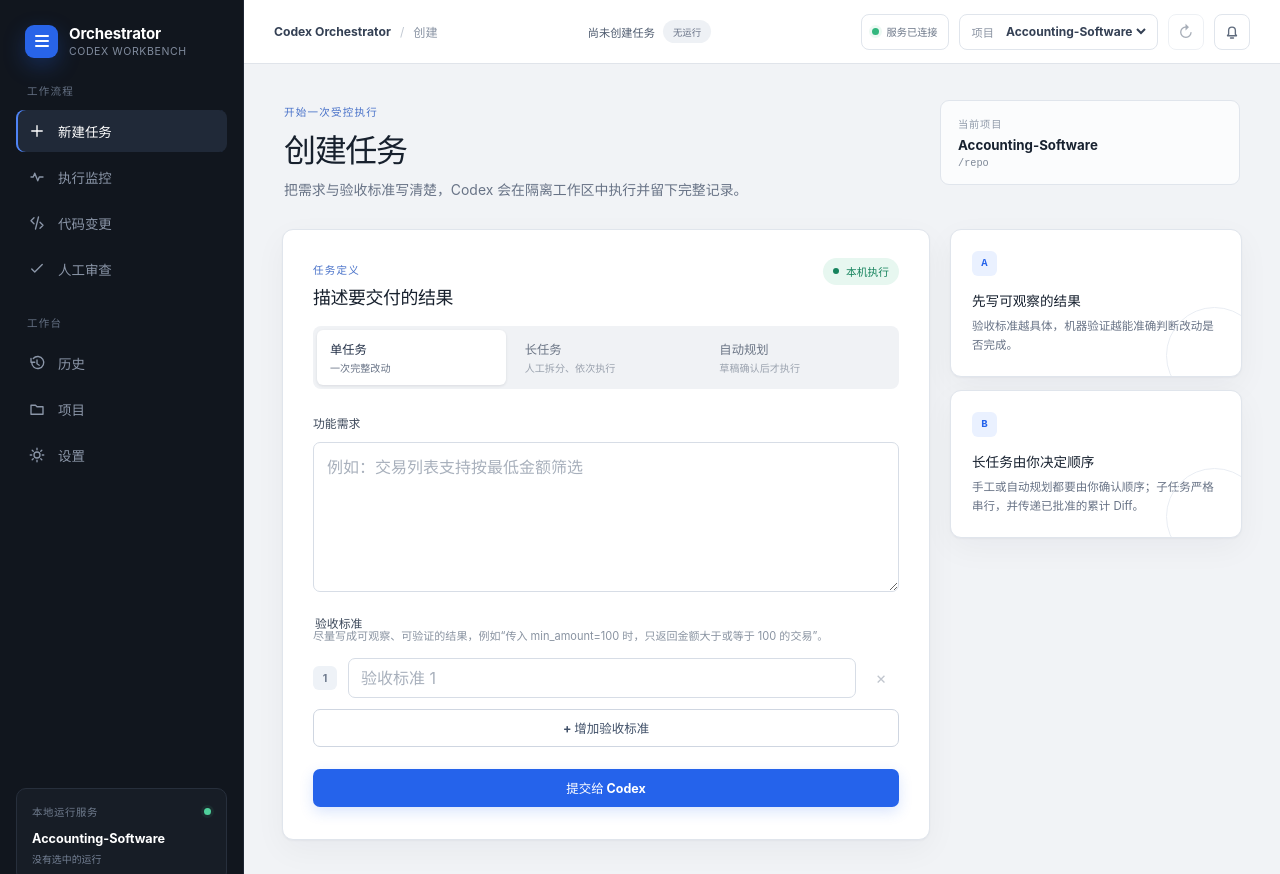
Test: App workbench › submits an ordered queue and opens its current review subtask
Click the tab with test id "queue-mode" at (606, 358), box [512, 330, 700, 385]
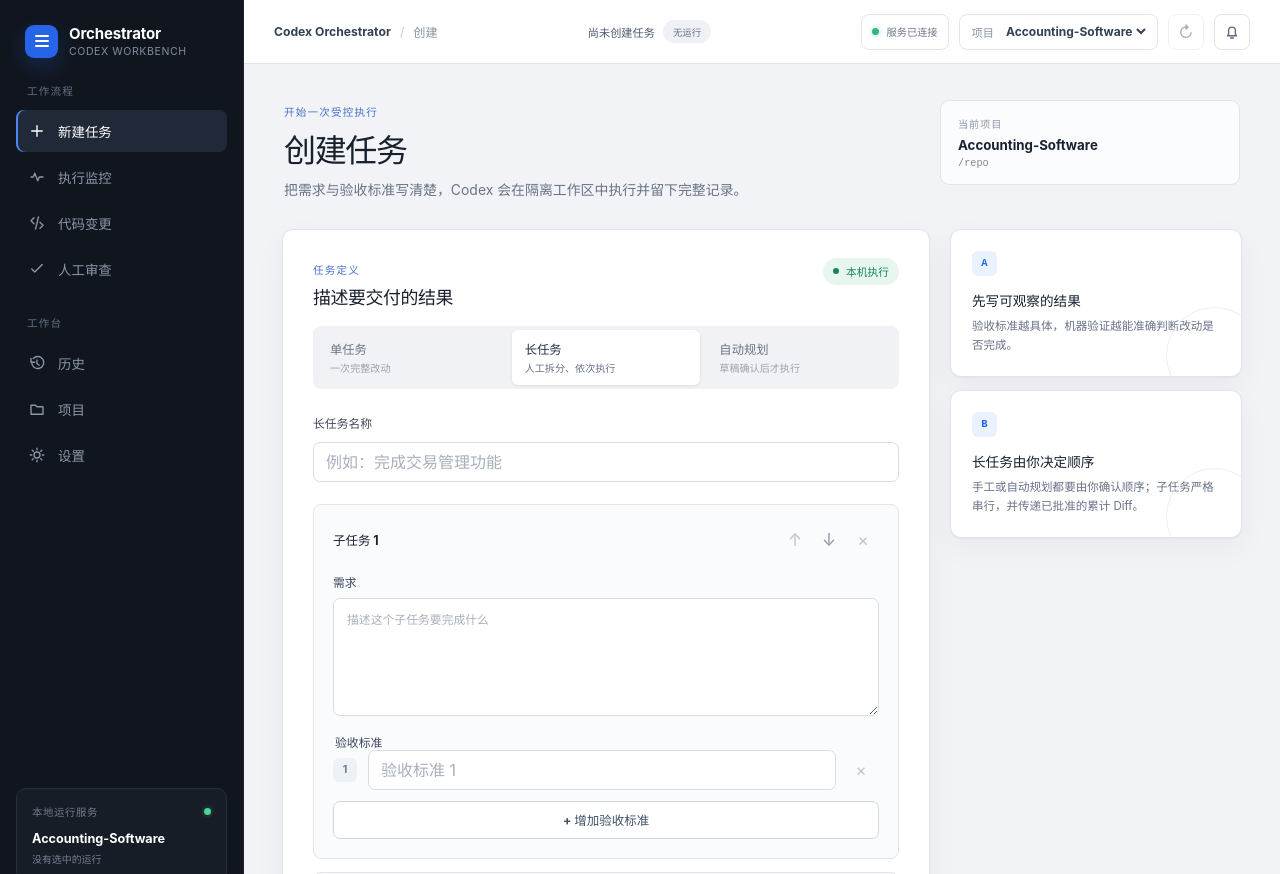
Type "交易管理" into the field with test id "queue-name" at (606, 462), box [313, 442, 899, 482]
Type "新增交易" into the text box with test id "subtask-requirement-0" at (606, 657), box [333, 598, 879, 716]
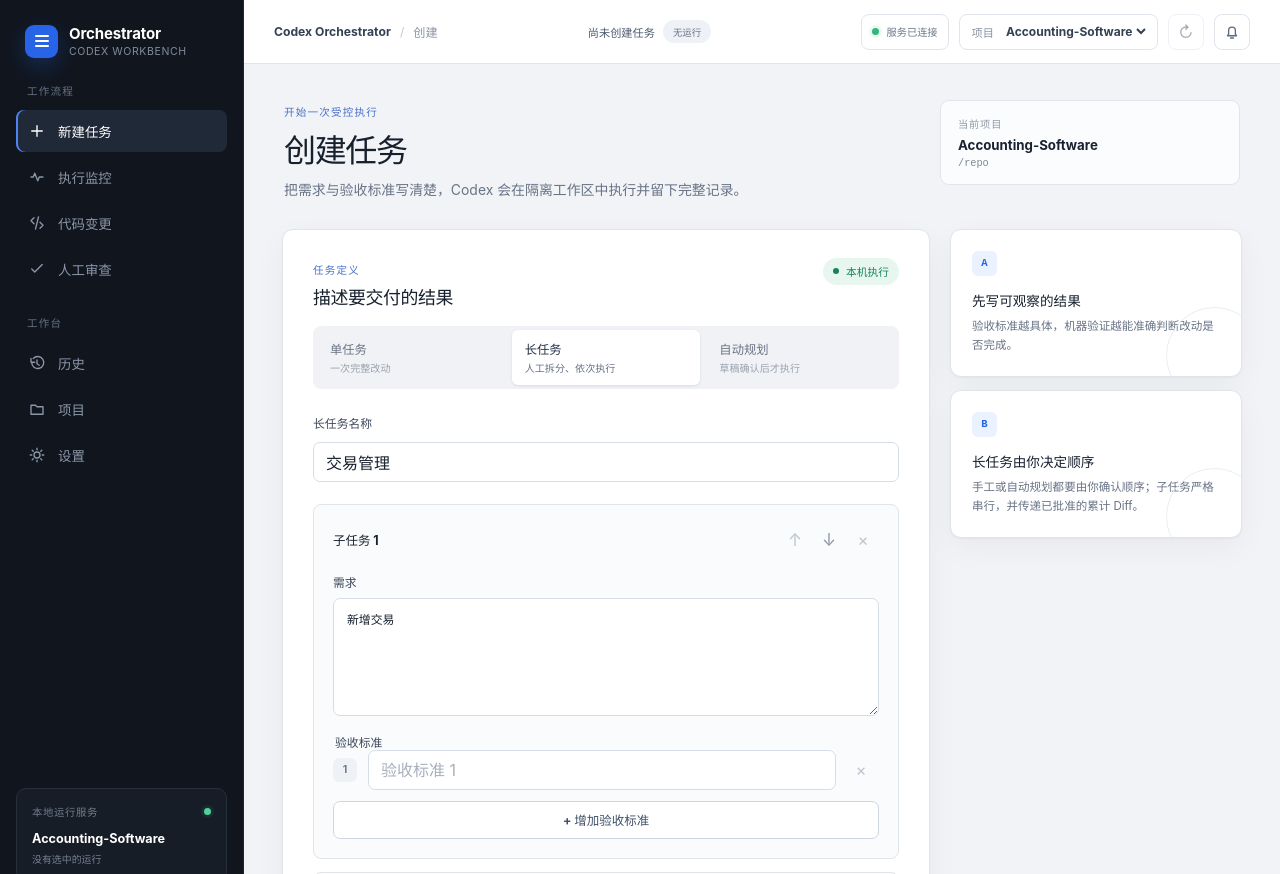
Type "可以新增" into the field with test id "subtask-0-criterion-0" at (602, 770), box [368, 750, 836, 790]
(page scrolled)
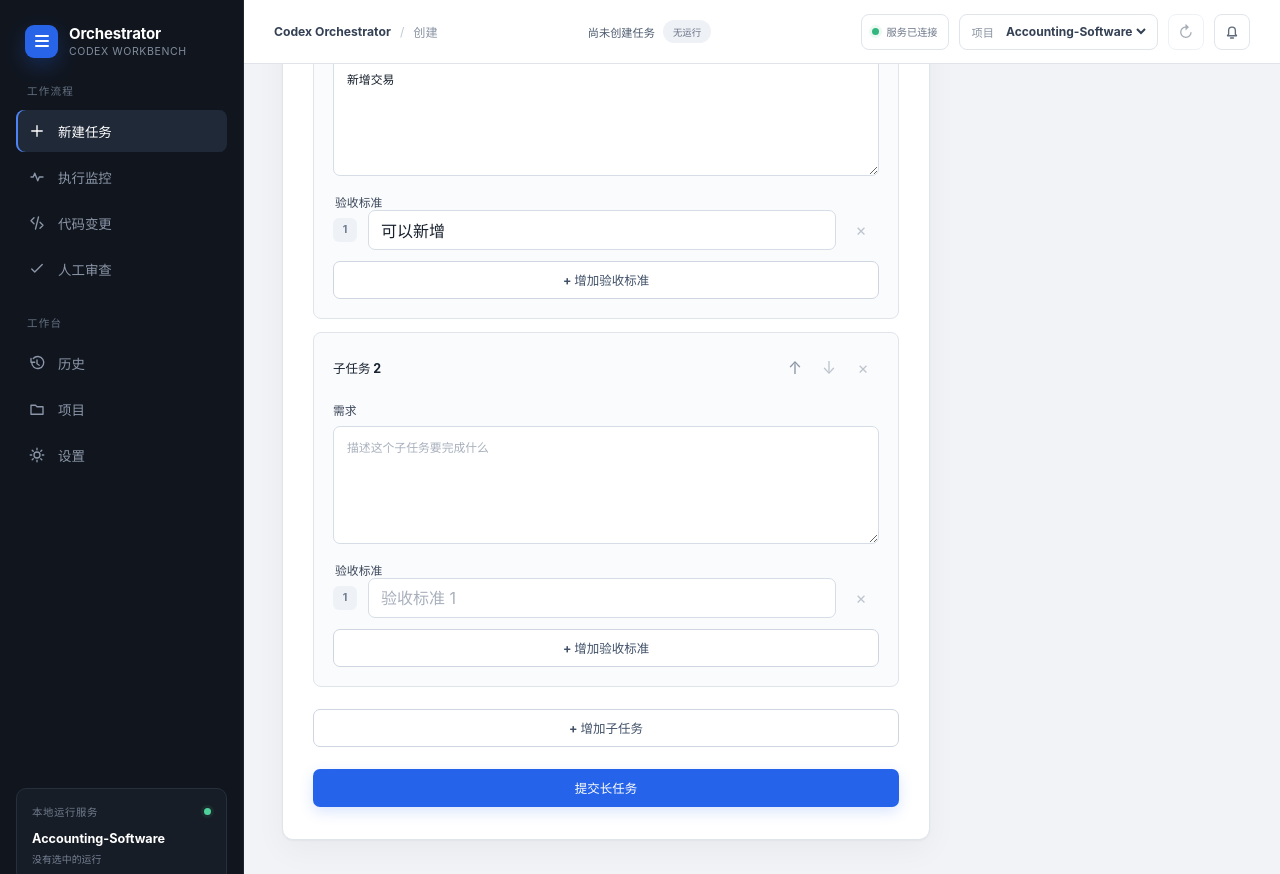
Type "交易列表" into the text box with test id "subtask-requirement-1" at (606, 485), box [333, 426, 879, 544]
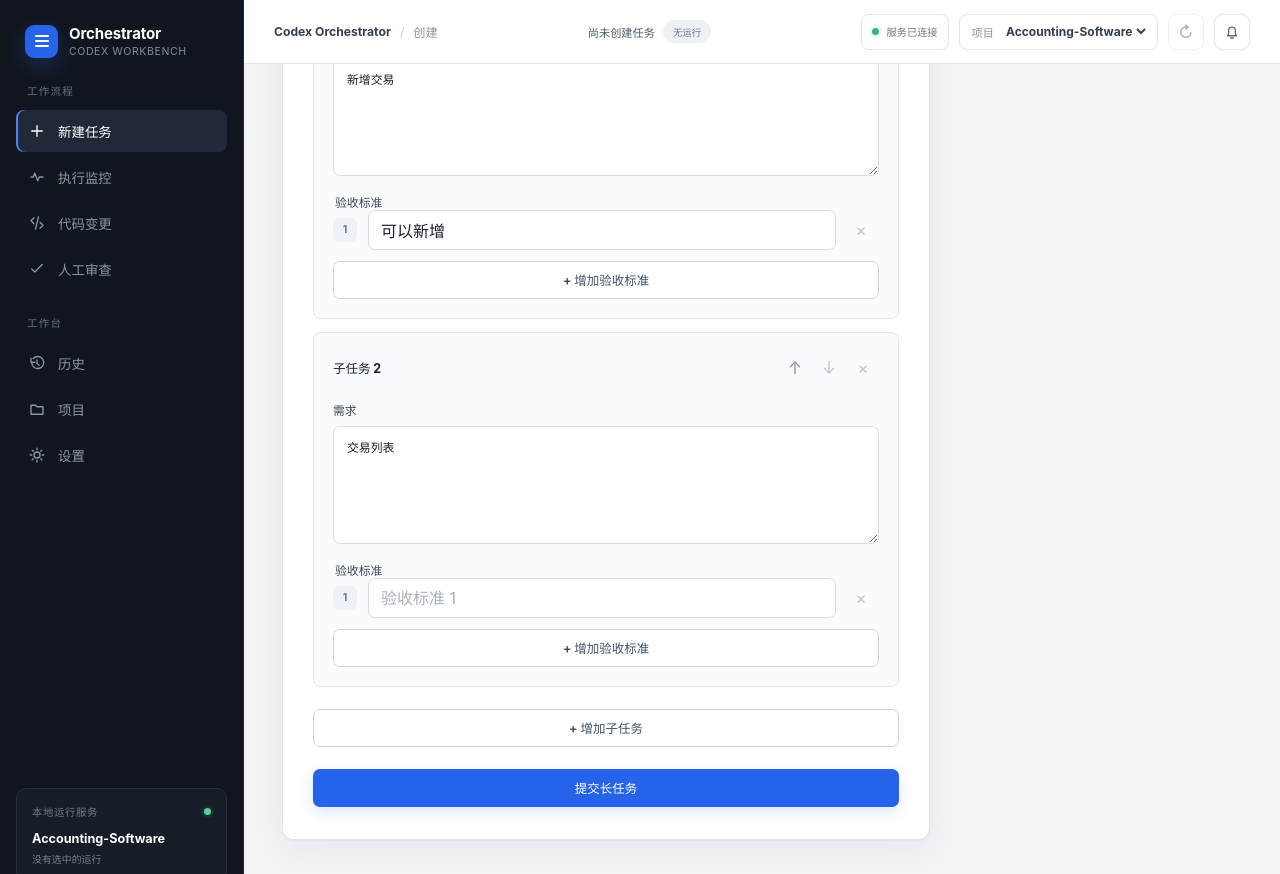
Type "可以查看" into the field with test id "subtask-1-criterion-0" at (602, 598), box [368, 578, 836, 618]
(page scrolled)
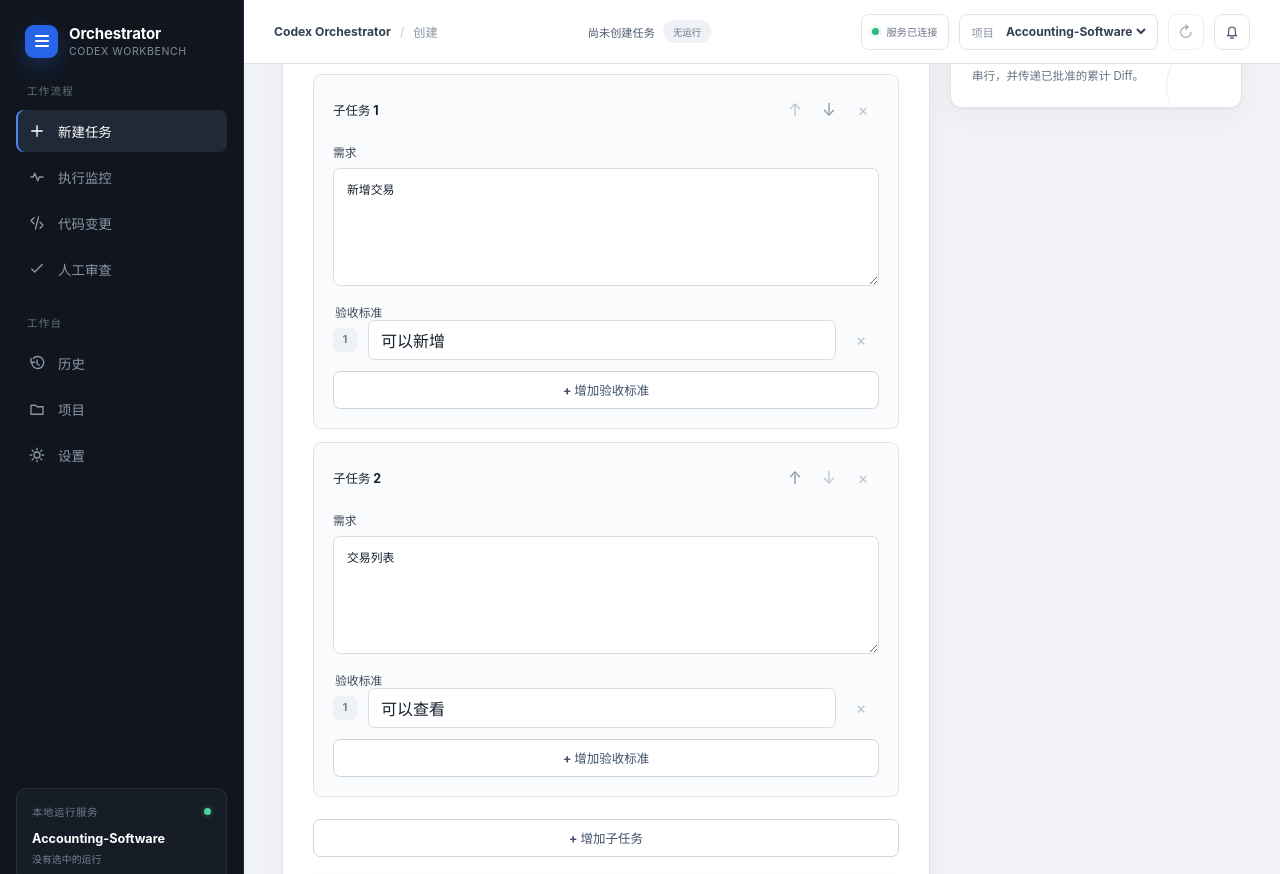
Submit the form with test id "queue-form"
Wait 2000 ms
(page scrolled)
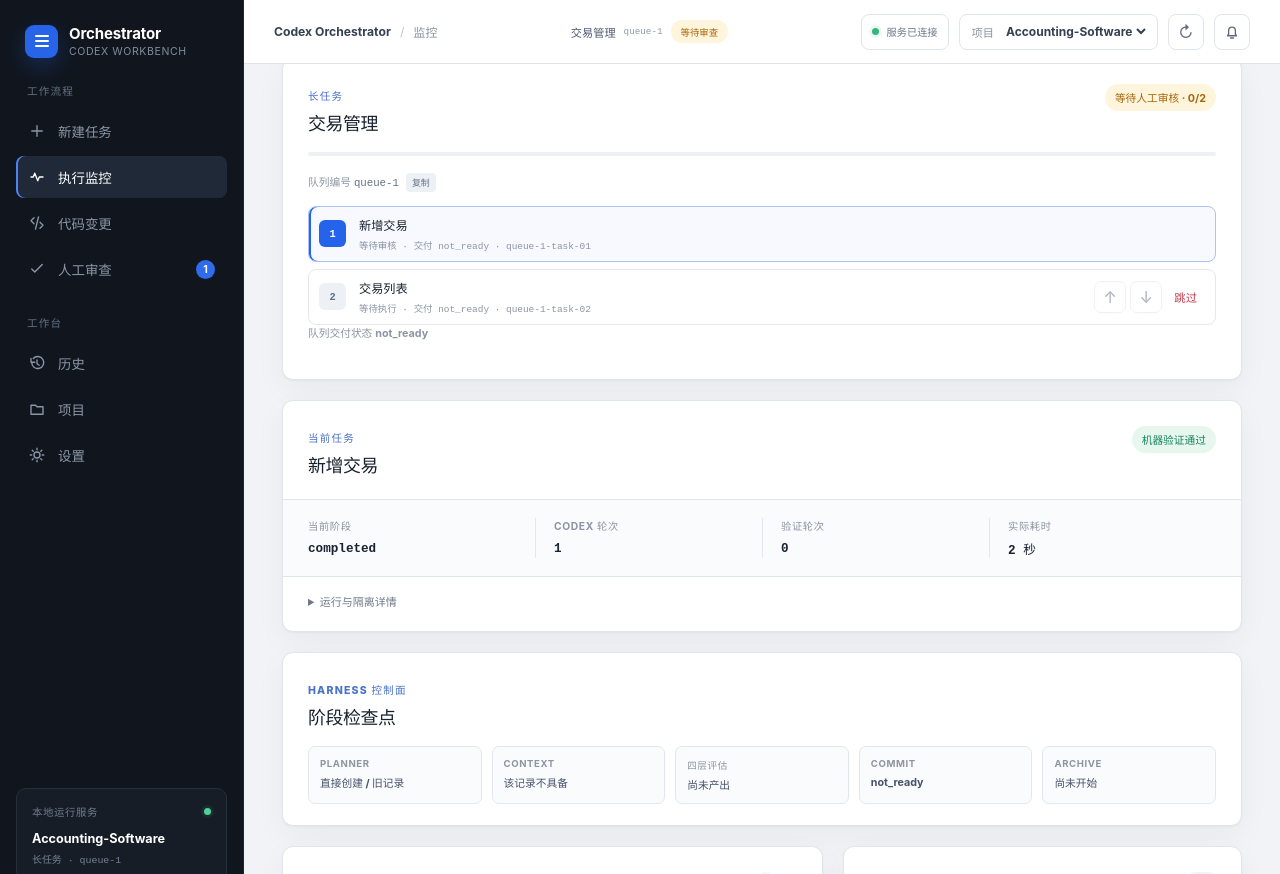
Result: the element with test id "queue-progress" shows "等待人工审核" at [1115, 92, 1206, 105]
Result: the element with test id "task-status" shows "新增交易" at [308, 455, 378, 476]
